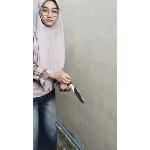Pisau: (61, 71, 89, 109)
